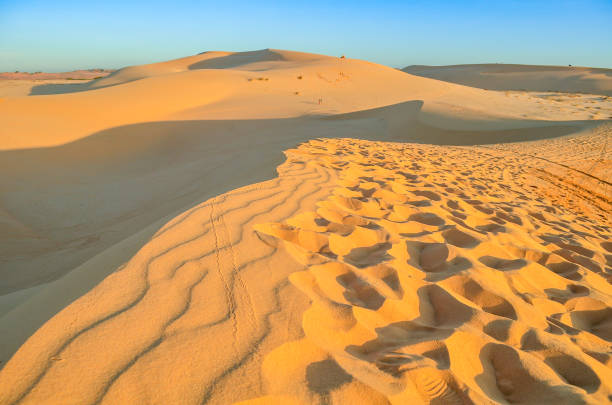human_foot_print: (507, 329, 609, 399), (397, 356, 483, 405), (283, 338, 363, 382), (304, 268, 387, 308), (442, 275, 520, 317), (482, 347, 526, 405), (338, 235, 405, 266), (279, 226, 335, 257), (531, 232, 596, 257), (417, 286, 451, 332), (408, 246, 453, 273), (573, 307, 612, 337), (554, 280, 596, 307), (472, 189, 503, 220), (397, 211, 446, 229), (481, 255, 524, 274), (441, 229, 481, 247), (529, 207, 558, 226), (411, 188, 443, 203), (337, 197, 368, 211), (358, 173, 385, 187)
